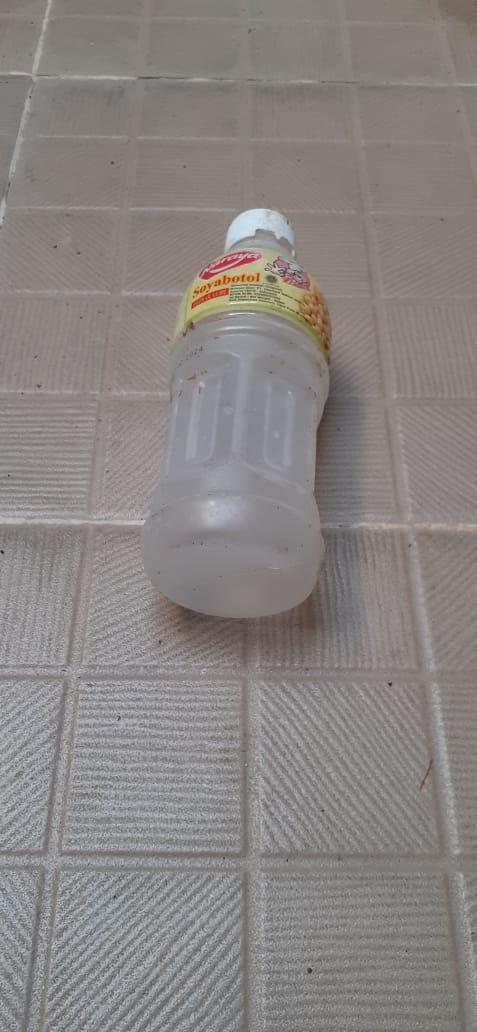Plastik: (137, 204, 335, 619)
